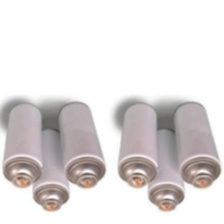aerosol_cans: (53, 100, 107, 188), (171, 99, 222, 192), (1, 98, 47, 191), (116, 101, 161, 191), (30, 125, 71, 214), (145, 125, 186, 213)
